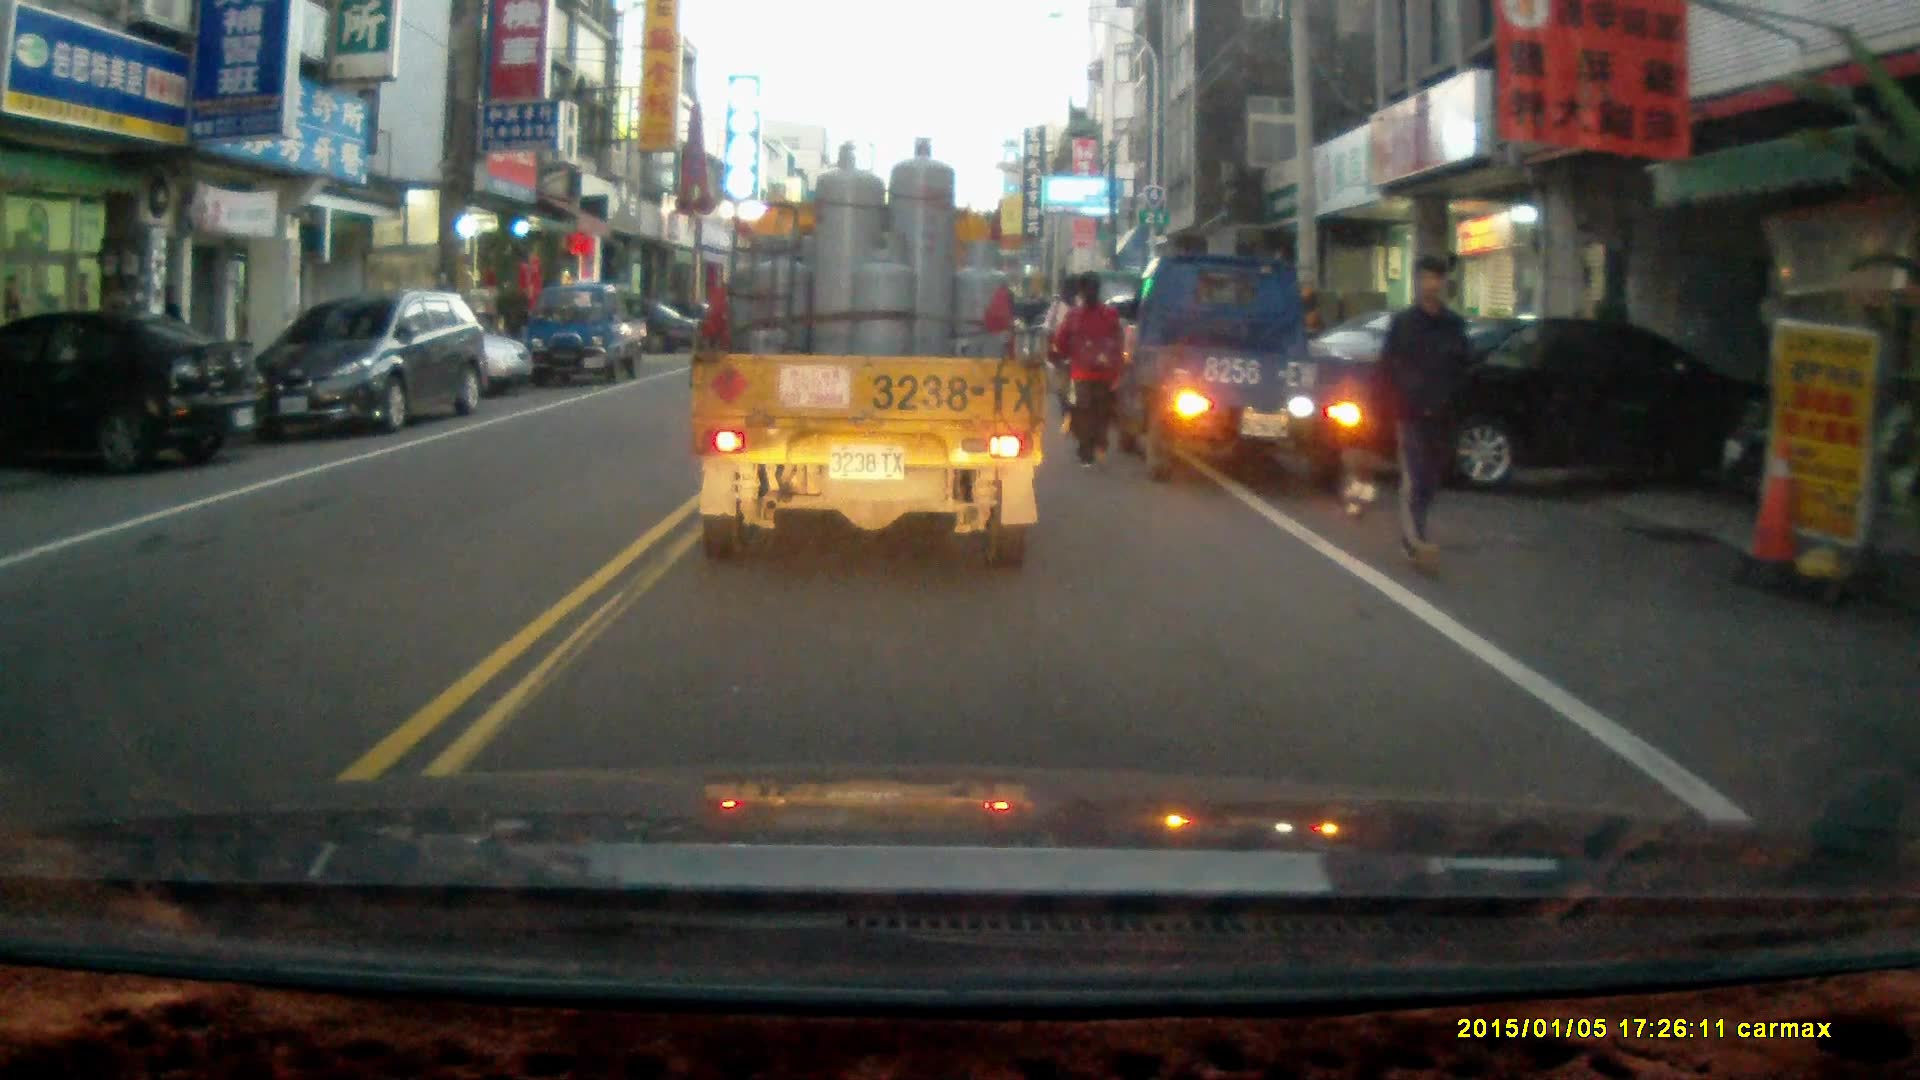pedestrian: (1367, 249, 1473, 572), (1052, 265, 1126, 463)
vehicle: (687, 138, 1052, 572), (1355, 307, 1689, 493), (1125, 251, 1382, 485), (1, 306, 265, 480), (240, 283, 498, 438), (528, 277, 653, 384)
